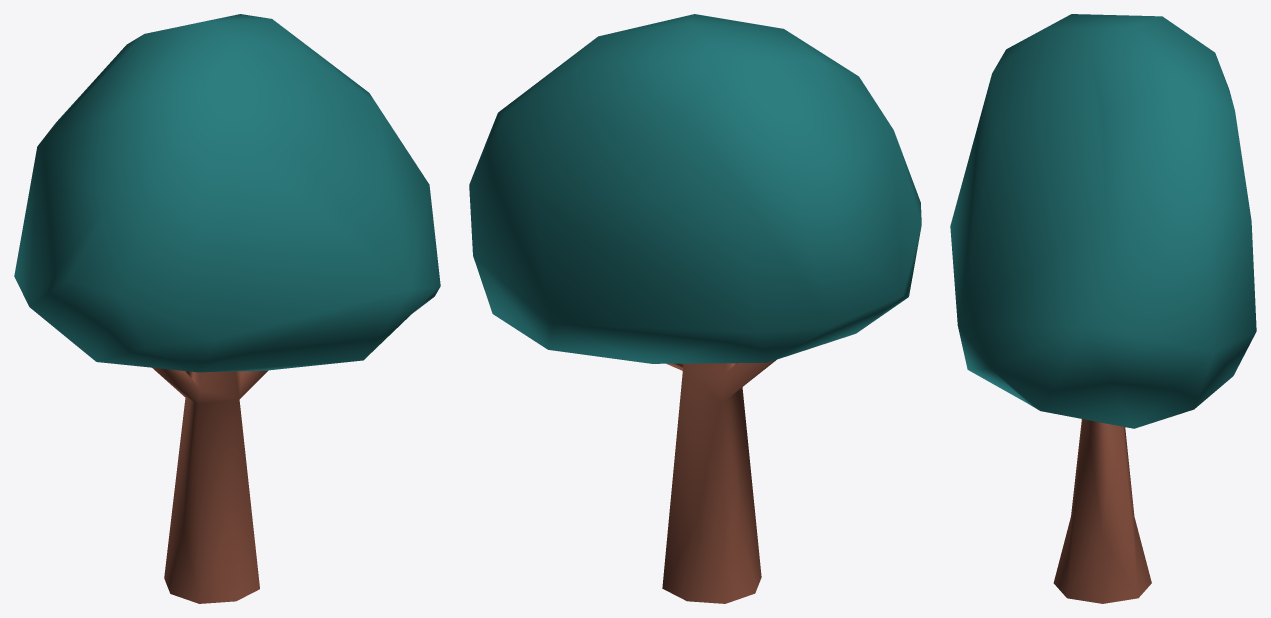
File: tree-a.glb
3 views of the same model, side by side, from view 1: azimuth 30°, elevation 25°; view 2: azimuth 150°, elevation 25°; view 3: azimuth 270°, elevation 25° (orthographic). The views are drawn at different scales.
Visible parts, largest first — view 1: detail_treeA; view 2: detail_treeA; view 3: detail_treeA.
Part boxes in pixels (x1,y1,x2,y2): detail_treeA: (14, 14, 440, 603); detail_treeA: (469, 14, 921, 603); detail_treeA: (950, 14, 1256, 603).
Bounding box in the file's own units: 0.5834 × 0.7803 × 0.3867.
